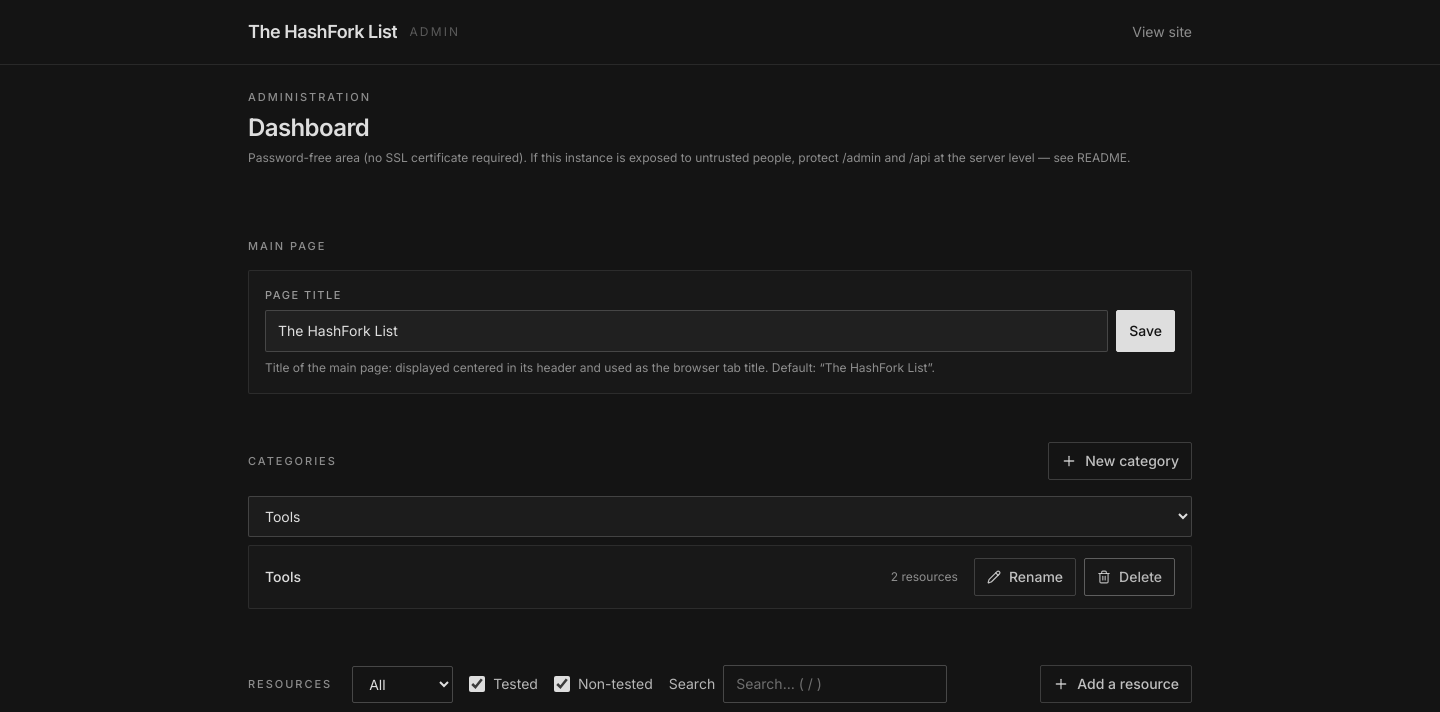
it: Admin — GitHub stars › rejects an invalid GitHub count -1 before saving
Step 1. Click the button "Add a resource" → (1116, 684), box [1040,665,1192,703]
(page scrolled)
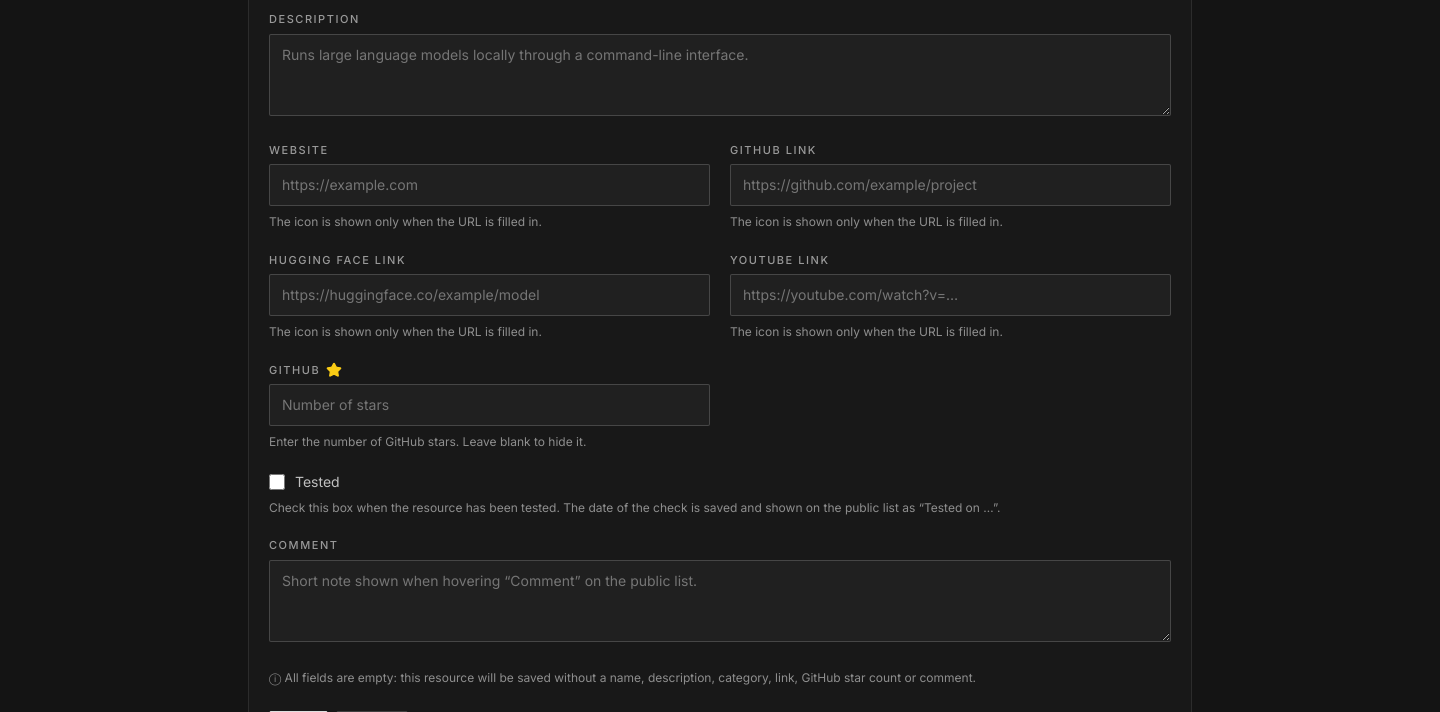
Step 2. Type "-1" into the number field named "GitHub stars" → (490, 405), box [269,384,710,426]
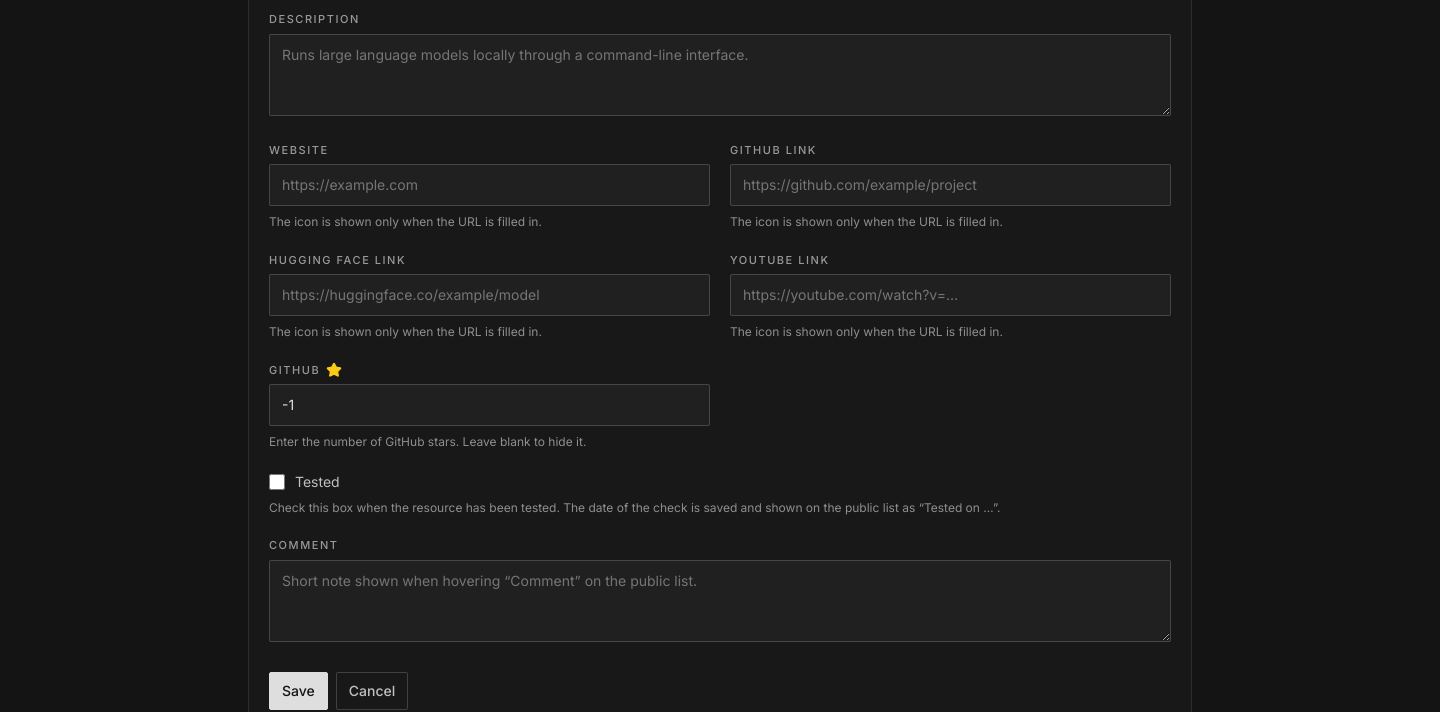
Step 3. Click the button "Save" → (298, 690), box [269,672,328,710]
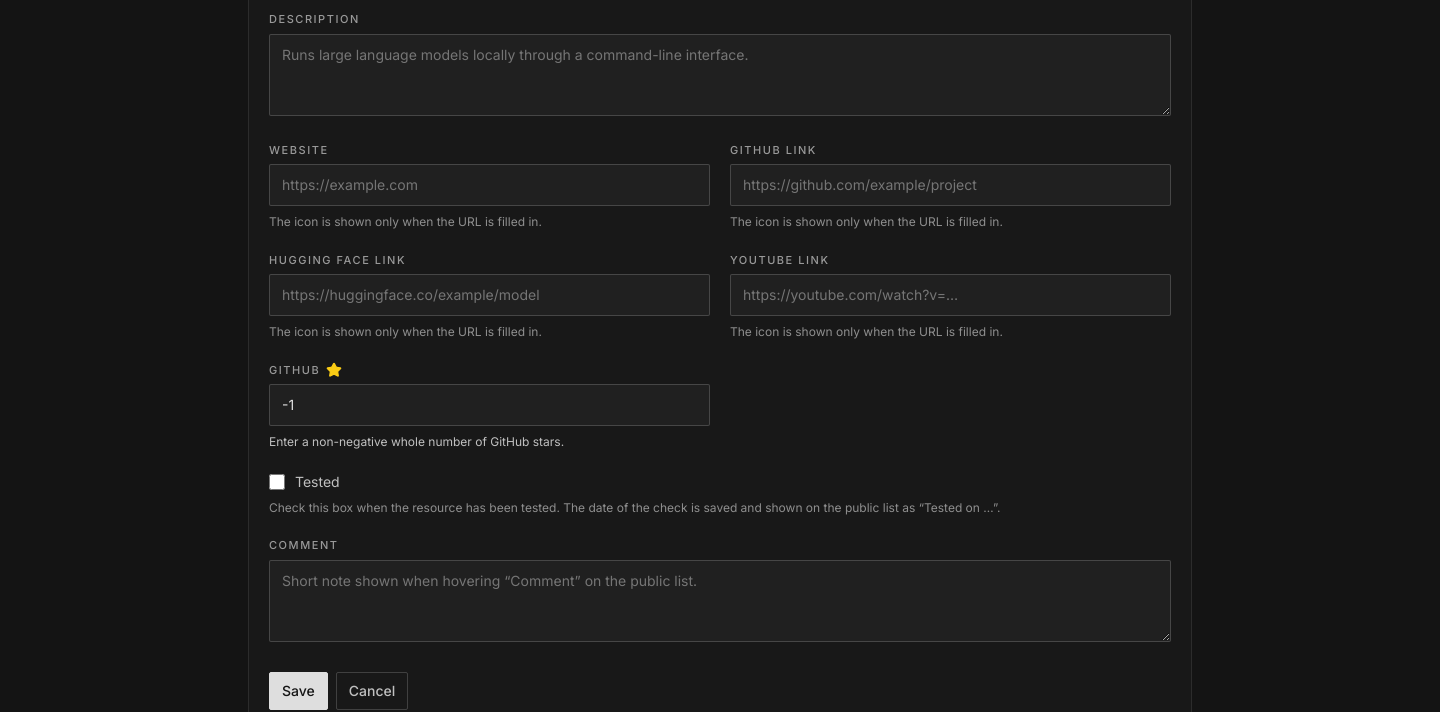
Expected: the text "Enter a non-negative whole number of GitHub stars." is shown, [269,434,564,449]
